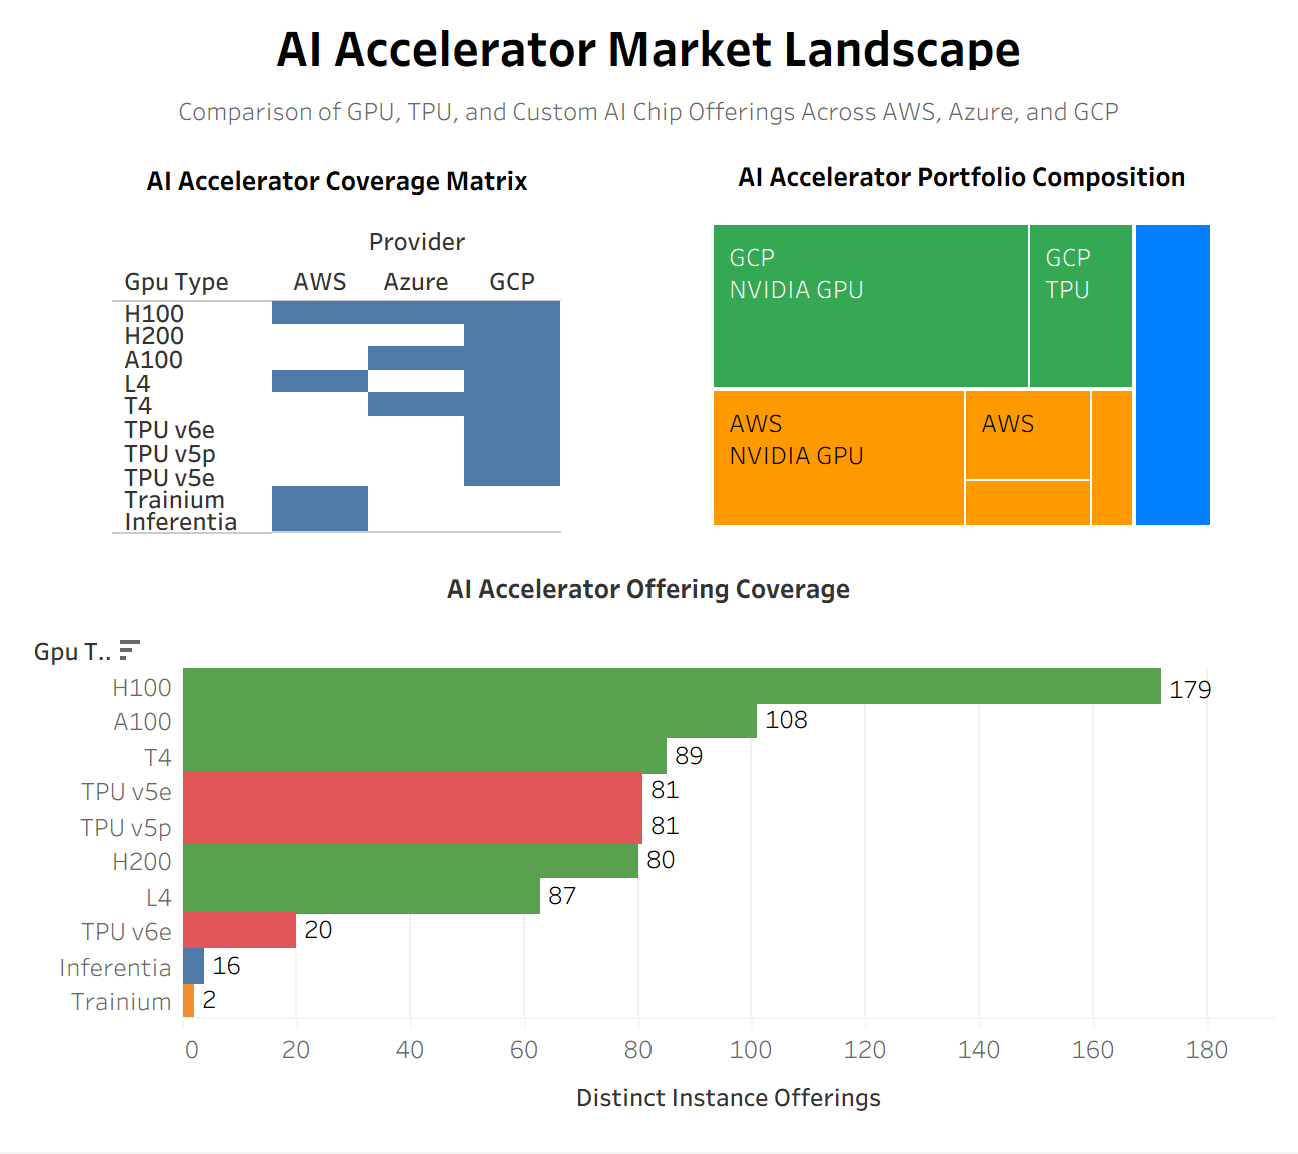

What the dashboard file says about the page in this screenshot:
{"tool":"tableau","page":{"name":"Dashboard 3","canvas":[650,860],"ordinal":2},"visuals":[{"type":"text","box":[8,11.9,634,47.7]},{"type":"text","box":[8,59.6,634,47.7]},{"type":"worksheet","title":"Sheet 12","mark":"Automatic","box":[353,113.3,267,287.7]},{"type":"worksheet","title":"Sheet 11","mark":"Square","rows":["gpu_type"],"cols":["provider"],"box":[57,116.3,310,284.7]},{"type":"worksheet","title":"Sheet 13","mark":"Bar","rows":["gpu_type"],"cols":["instance_type"],"box":[8,414.3,634,433.7]}]}

Visuals, with their boxes on the page's 650x860 design canvas (x1, y1, x2, y2). These are canvas units, not pixel positions in the 1298x1154 screenshot, which may show the page scaled, cropped or inside an application window:
text: x1=8, y1=12, x2=642, y2=60
text: x1=8, y1=60, x2=642, y2=107
"Sheet 12" worksheet: x1=353, y1=113, x2=620, y2=401
"Sheet 11" worksheet (Square marks): x1=57, y1=116, x2=367, y2=401
"Sheet 13" worksheet (Bar marks): x1=8, y1=414, x2=642, y2=848
